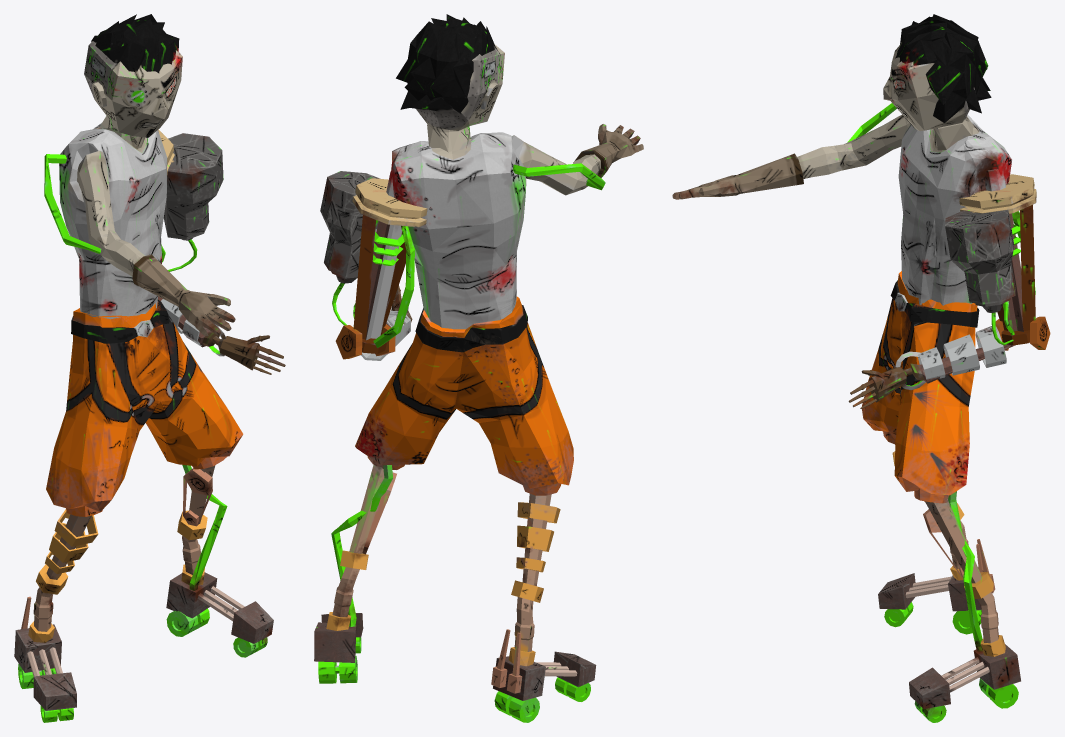
Rendered from CyborgFINALAnimation_000015.obj.
3 renders of one model, left to right at view 1: azimuth 30°, elevation 25°; view 2: azimuth 150°, elevation 25°; view 3: azimuth 270°, elevation 25°, orthographic. The views are drawn at different scales.
Visible parts, largest first — view 1: CyborgMesh_Cube.002; view 2: CyborgMesh_Cube.002; view 3: CyborgMesh_Cube.002.
Boxes of the visible parts, x1,y1,x2,y2 form: CyborgMesh_Cube.002: (14, 14, 285, 722); CyborgMesh_Cube.002: (314, 14, 643, 722); CyborgMesh_Cube.002: (672, 14, 1050, 722).
Size of the model in its own units: 3.7 by 9.55 by 5.04.
